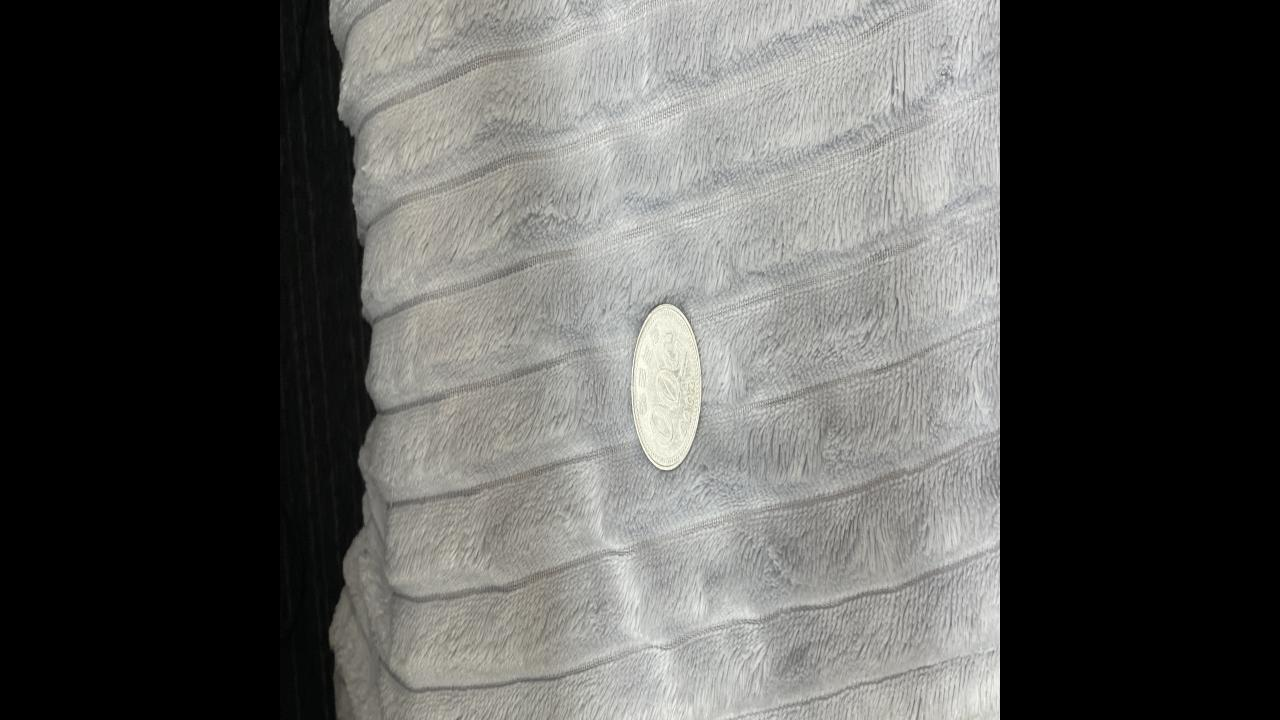coin: (630, 298, 702, 474)
